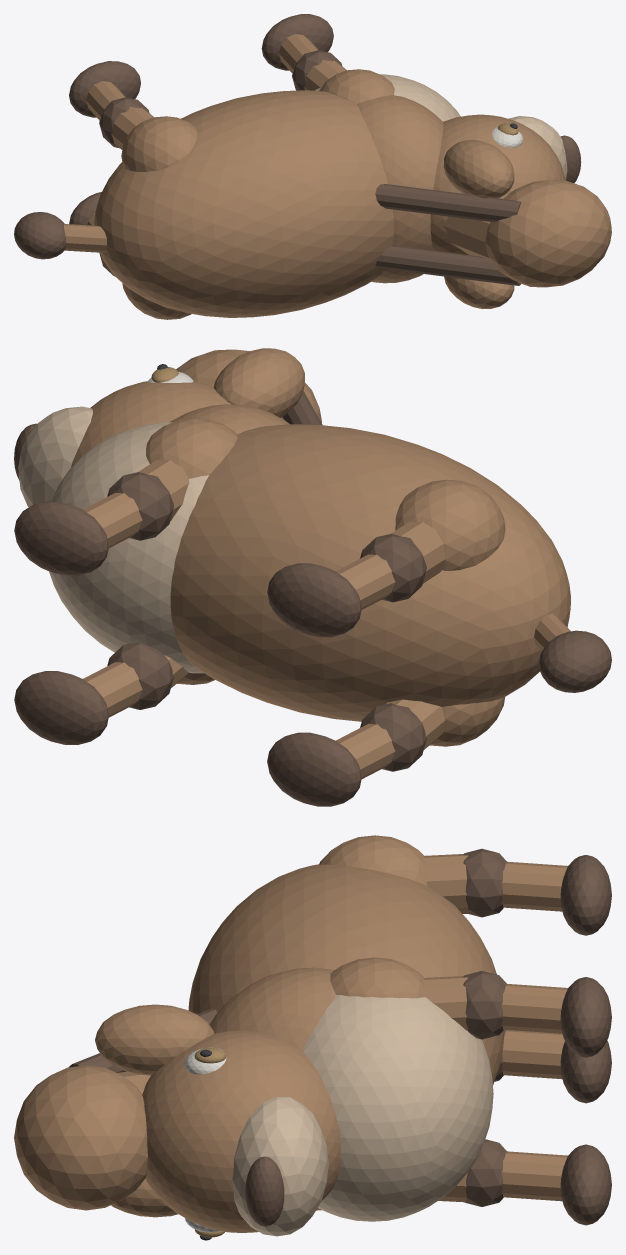
The model's file is horse.glb.
3 renders of one model, top to bottom at view 1: azimuth 30°, elevation 25°; view 2: azimuth 150°, elevation 25°; view 3: azimuth 270°, elevation 25°, orthographic. The views are drawn at different scales.
Visible parts, largest first — view 1: world; view 2: world; view 3: world.
Part boxes in pixels (x1,y1,x2,y2): world: [14, 14, 611, 319]; world: [14, 348, 611, 806]; world: [14, 835, 611, 1240].
Bounding box in the file's own units: 2.62 × 0.96 × 2.07.
